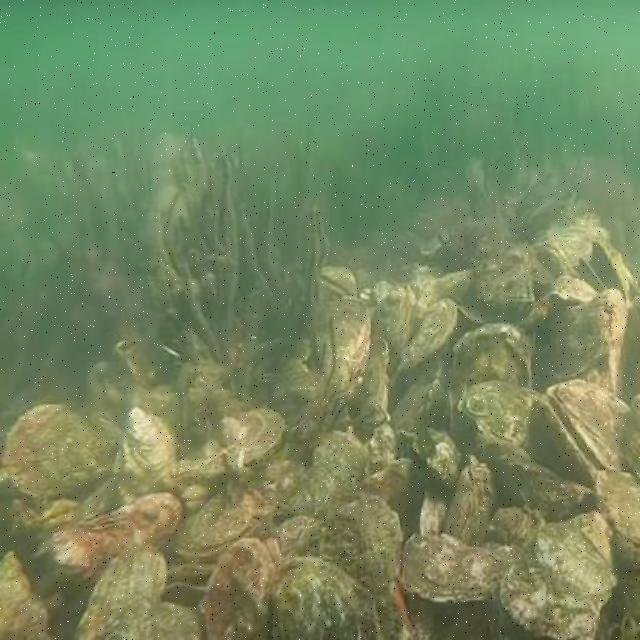Oyster-Closed: (506, 510, 617, 638), (275, 494, 400, 599), (53, 493, 184, 581), (452, 330, 532, 460), (9, 405, 124, 493), (269, 558, 387, 640), (69, 547, 169, 640), (485, 445, 601, 524), (404, 530, 513, 604), (548, 378, 634, 465), (206, 540, 278, 640), (536, 297, 615, 382), (287, 429, 363, 516), (527, 395, 594, 486), (116, 413, 179, 506), (172, 485, 252, 557), (317, 298, 369, 400), (461, 381, 540, 446), (401, 297, 460, 372), (450, 451, 494, 550), (475, 247, 534, 318), (371, 284, 414, 380), (355, 328, 391, 436), (225, 403, 283, 468), (116, 599, 206, 640), (416, 265, 477, 325), (594, 469, 640, 547), (535, 223, 607, 265), (531, 241, 575, 282)
Oyster-Open: (577, 240, 633, 304), (163, 560, 214, 604)
